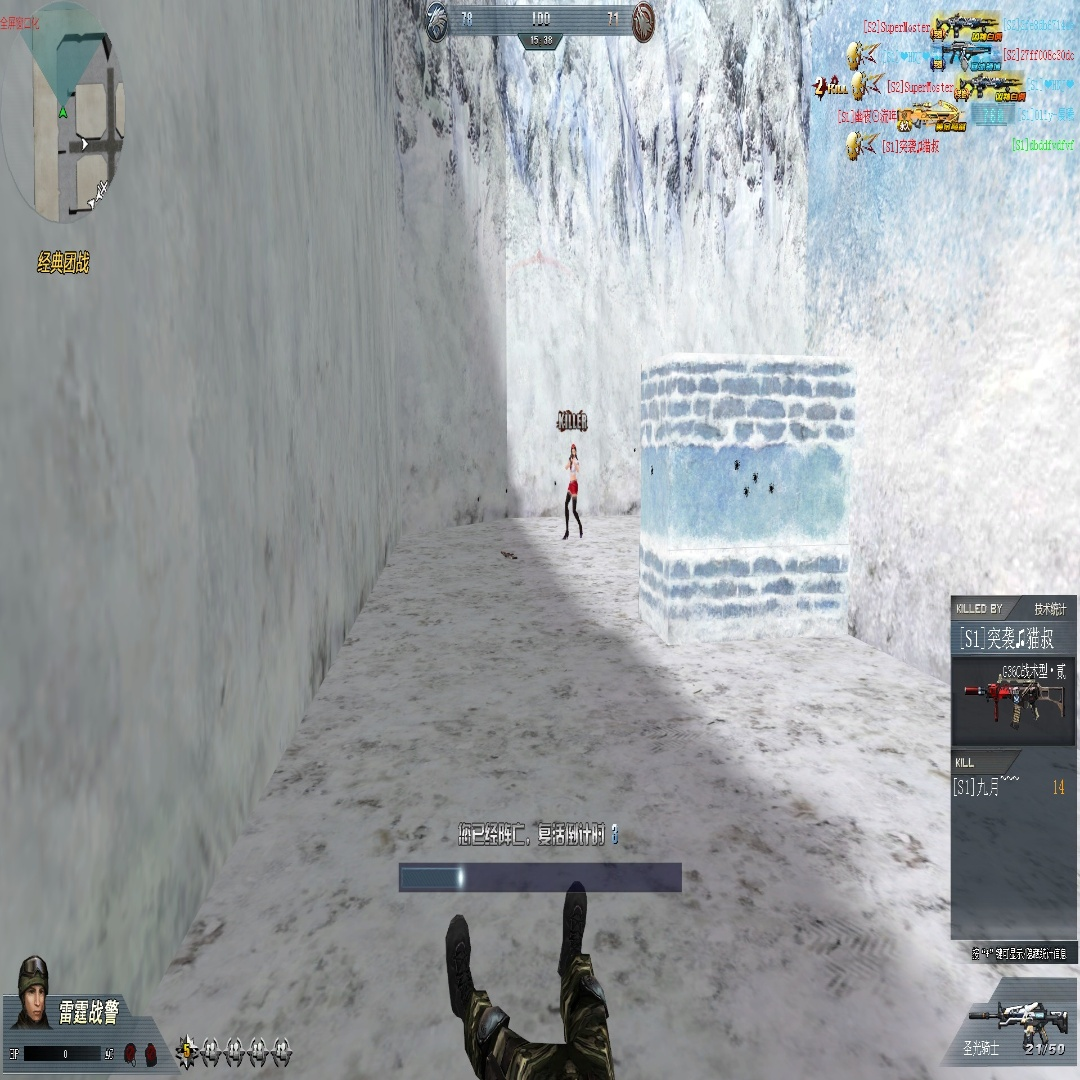t: (560, 440, 584, 542)
